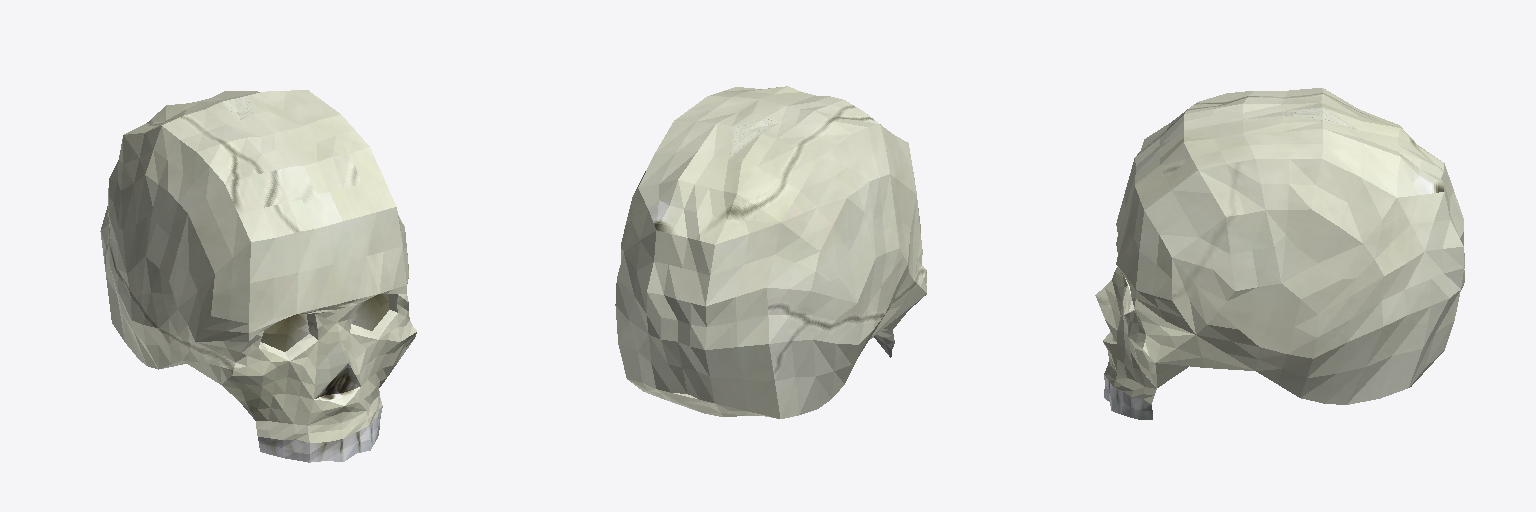
3 views of the same model, side by side, from view 1: azimuth 30°, elevation 25°; view 2: azimuth 150°, elevation 25°; view 3: azimuth 270°, elevation 25° (orthographic).
Parts seen in each view (by area): view 1: Circle; view 2: Circle; view 3: Circle.
Boxes of the visible parts, x1=… form: Circle: x1=100, y1=90, x2=416, y2=462; Circle: x1=615, y1=86, x2=926, y2=418; Circle: x1=1095, y1=88, x2=1464, y2=419.
Bounding box in the file's own units: 1.12 × 1.39 × 1.65.
Materials: 1 (1 with a texture image).